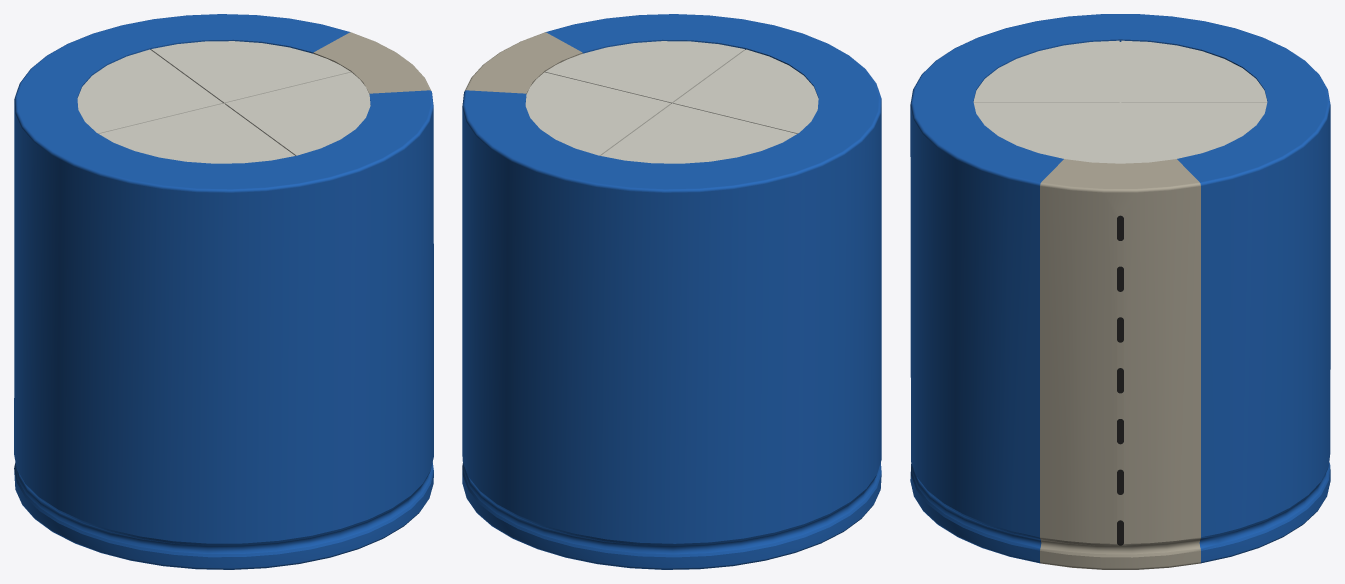
File: kc-cp_radial_d30.0mm_p10.00mm_snapin.glb
The picture shows the model from 3 angles, left to right: view 1: azimuth 30°, elevation 25°; view 2: azimuth 150°, elevation 25°; view 3: azimuth 270°, elevation 25°; orthographic projection.
Parts seen in each view (by area): view 1: 0_0.16666666666666666_0.5_0, 0.6666666666666666_0.6666666666666666_0.5833333333333334_0.8, 0.4166666666666667_0.4166666666666667_0.3333333333333333_0; view 2: 0_0.16666666666666666_0.5_0, 0.6666666666666666_0.6666666666666666_0.5833333333333334_0.8, 0.4166666666666667_0.4166666666666667_0.3333333333333333_0; view 3: 0_0.16666666666666666_0.5_0, 0.4166666666666667_0.4166666666666667_0.3333333333333333_0, 0.6666666666666666_0.6666666666666666_0.5833333333333334_0.8, 0_0_0_0.
Part boxes in pixels (left/top/right/bottom): 0_0.16666666666666666_0.5_0: left=14, top=14, right=433, bottom=569; 0.6666666666666666_0.6666666666666666_0.5833333333333334_0.8: left=77, top=41, right=370, bottom=163; 0.4166666666666667_0.4166666666666667_0.3333333333333333_0: left=313, top=32, right=431, bottom=94; 0_0.16666666666666666_0.5_0: left=462, top=14, right=881, bottom=569; 0.6666666666666666_0.6666666666666666_0.5833333333333334_0.8: left=525, top=41, right=818, bottom=163; 0.4166666666666667_0.4166666666666667_0.3333333333333333_0: left=465, top=32, right=582, bottom=94; 0_0.16666666666666666_0.5_0: left=910, top=14, right=1330, bottom=563; 0.4166666666666667_0.4166666666666667_0.3333333333333333_0: left=1040, top=159, right=1200, bottom=569; 0.6666666666666666_0.6666666666666666_0.5833333333333334_0.8: left=973, top=40, right=1267, bottom=163; 0_0_0_0: left=1117, top=215, right=1123, bottom=545.
Bounding box in the file's own units: 3 × 3.2 × 3.
